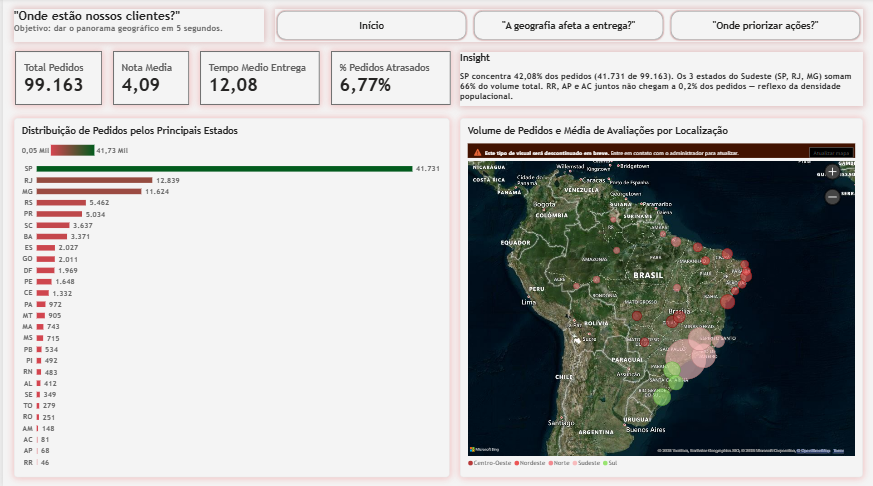

The page's visual inventory and layout, read from the dashboard file:
{"tool":"powerbi","page":{"name":"\"Onde estão nossos clientes?\"","canvas":[1920,1080],"ordinal":1},"visuals":[{"type":"textbox","box":[24,24,552,72],"z":0},{"type":"pageNavigator","box":[600,24,1296,72],"z":1},{"type":"cardVisual","fields":{"Data":["Medidas.Total Pedidos"]},"box":[26.2,116.8,192,120],"z":2},{"type":"cardVisual","fields":{"Data":["Medidas.Nota Media"]},"box":[242.2,116.8,168,120],"z":3},{"type":"cardVisual","fields":{"Data":["Medidas.Tempo Medio Entrega"]},"box":[434.2,116.8,264,120],"z":4},{"type":"cardVisual","fields":{"Data":["Medidas.% Pedidos Atrasados"]},"box":[722.2,116.8,264,120],"z":5},{"type":"barChart","title":"Distribuição de Pedidos pelos Principais Estados","fields":{"Category":["fPedidos.customer_state"],"Y":["Medidas.Total Pedidos"]},"box":[24,264,960,792],"z":8},{"type":"map","title":"Volume de Pedidos e Média de Avaliações por Localização","fields":{"Category":["fPedidos.Estado_Nome"],"Series":["dEstado.Regiao"],"Size":["Medidas.Total Pedidos"]},"box":[1008,264,888,792],"z":10},{"type":"textbox","title":"Insight","box":[1008,120,888,120],"z":11}]}

Visuals, with their boxes in screenshot pixels (x1, y1, x2, y2), scaled from the page's 1920x1080 canvas onto the 873x486 screenshot:
textbox: (11, 11, 262, 43)
pageNavigator: (273, 11, 862, 43)
cardVisual - Medidas.Total Pedidos: (12, 53, 99, 107)
cardVisual - Medidas.Nota Media: (110, 53, 187, 107)
cardVisual - Medidas.Tempo Medio Entrega: (197, 53, 317, 107)
cardVisual - Medidas.% Pedidos Atrasados: (328, 53, 448, 107)
"Distribuição de Pedidos pelos Principais Estados" barChart: (11, 119, 447, 475)
"Volume de Pedidos e Média de Avaliações por Localização" map: (458, 119, 862, 475)
"Insight" textbox: (458, 54, 862, 108)
